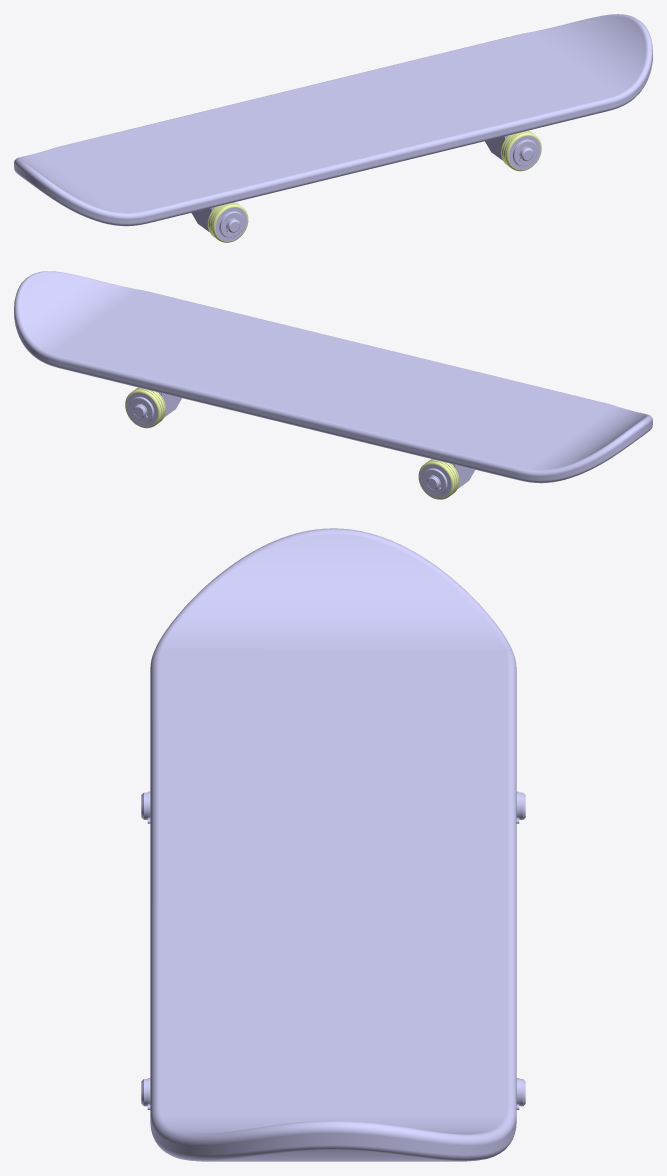
The model's file is Skate-Board-Assy.glb.
The picture shows the model from 3 angles, top to bottom: view 1: azimuth 30°, elevation 25°; view 2: azimuth 150°, elevation 25°; view 3: azimuth 270°, elevation 25°; orthographic projection. The views are drawn at different scales.
Parts seen in each view (by area): view 1: Skate Board Body, Wheel (×2), Tire (×2), Axle (×2); view 2: Skate Board Body, Wheel (×2), Tire (×2), Axle (×2); view 3: Skate Board Body.
Part boxes in pixels (x1,y1,x2,y2): Skate Board Body: [14, 14, 652, 226]; Wheel (×2): [215, 135, 540, 241]; Tire (×2): [207, 130, 541, 242]; Axle (×2): [191, 136, 533, 232]; Skate Board Body: [14, 271, 652, 483]; Wheel (×2): [126, 392, 451, 498]; Tire (×2): [125, 387, 459, 499]; Axle (×2): [133, 393, 475, 489]; Skate Board Body: [150, 528, 516, 1161].
Size of the model in its own units: 1.55 by 0.1945 by 0.42.
